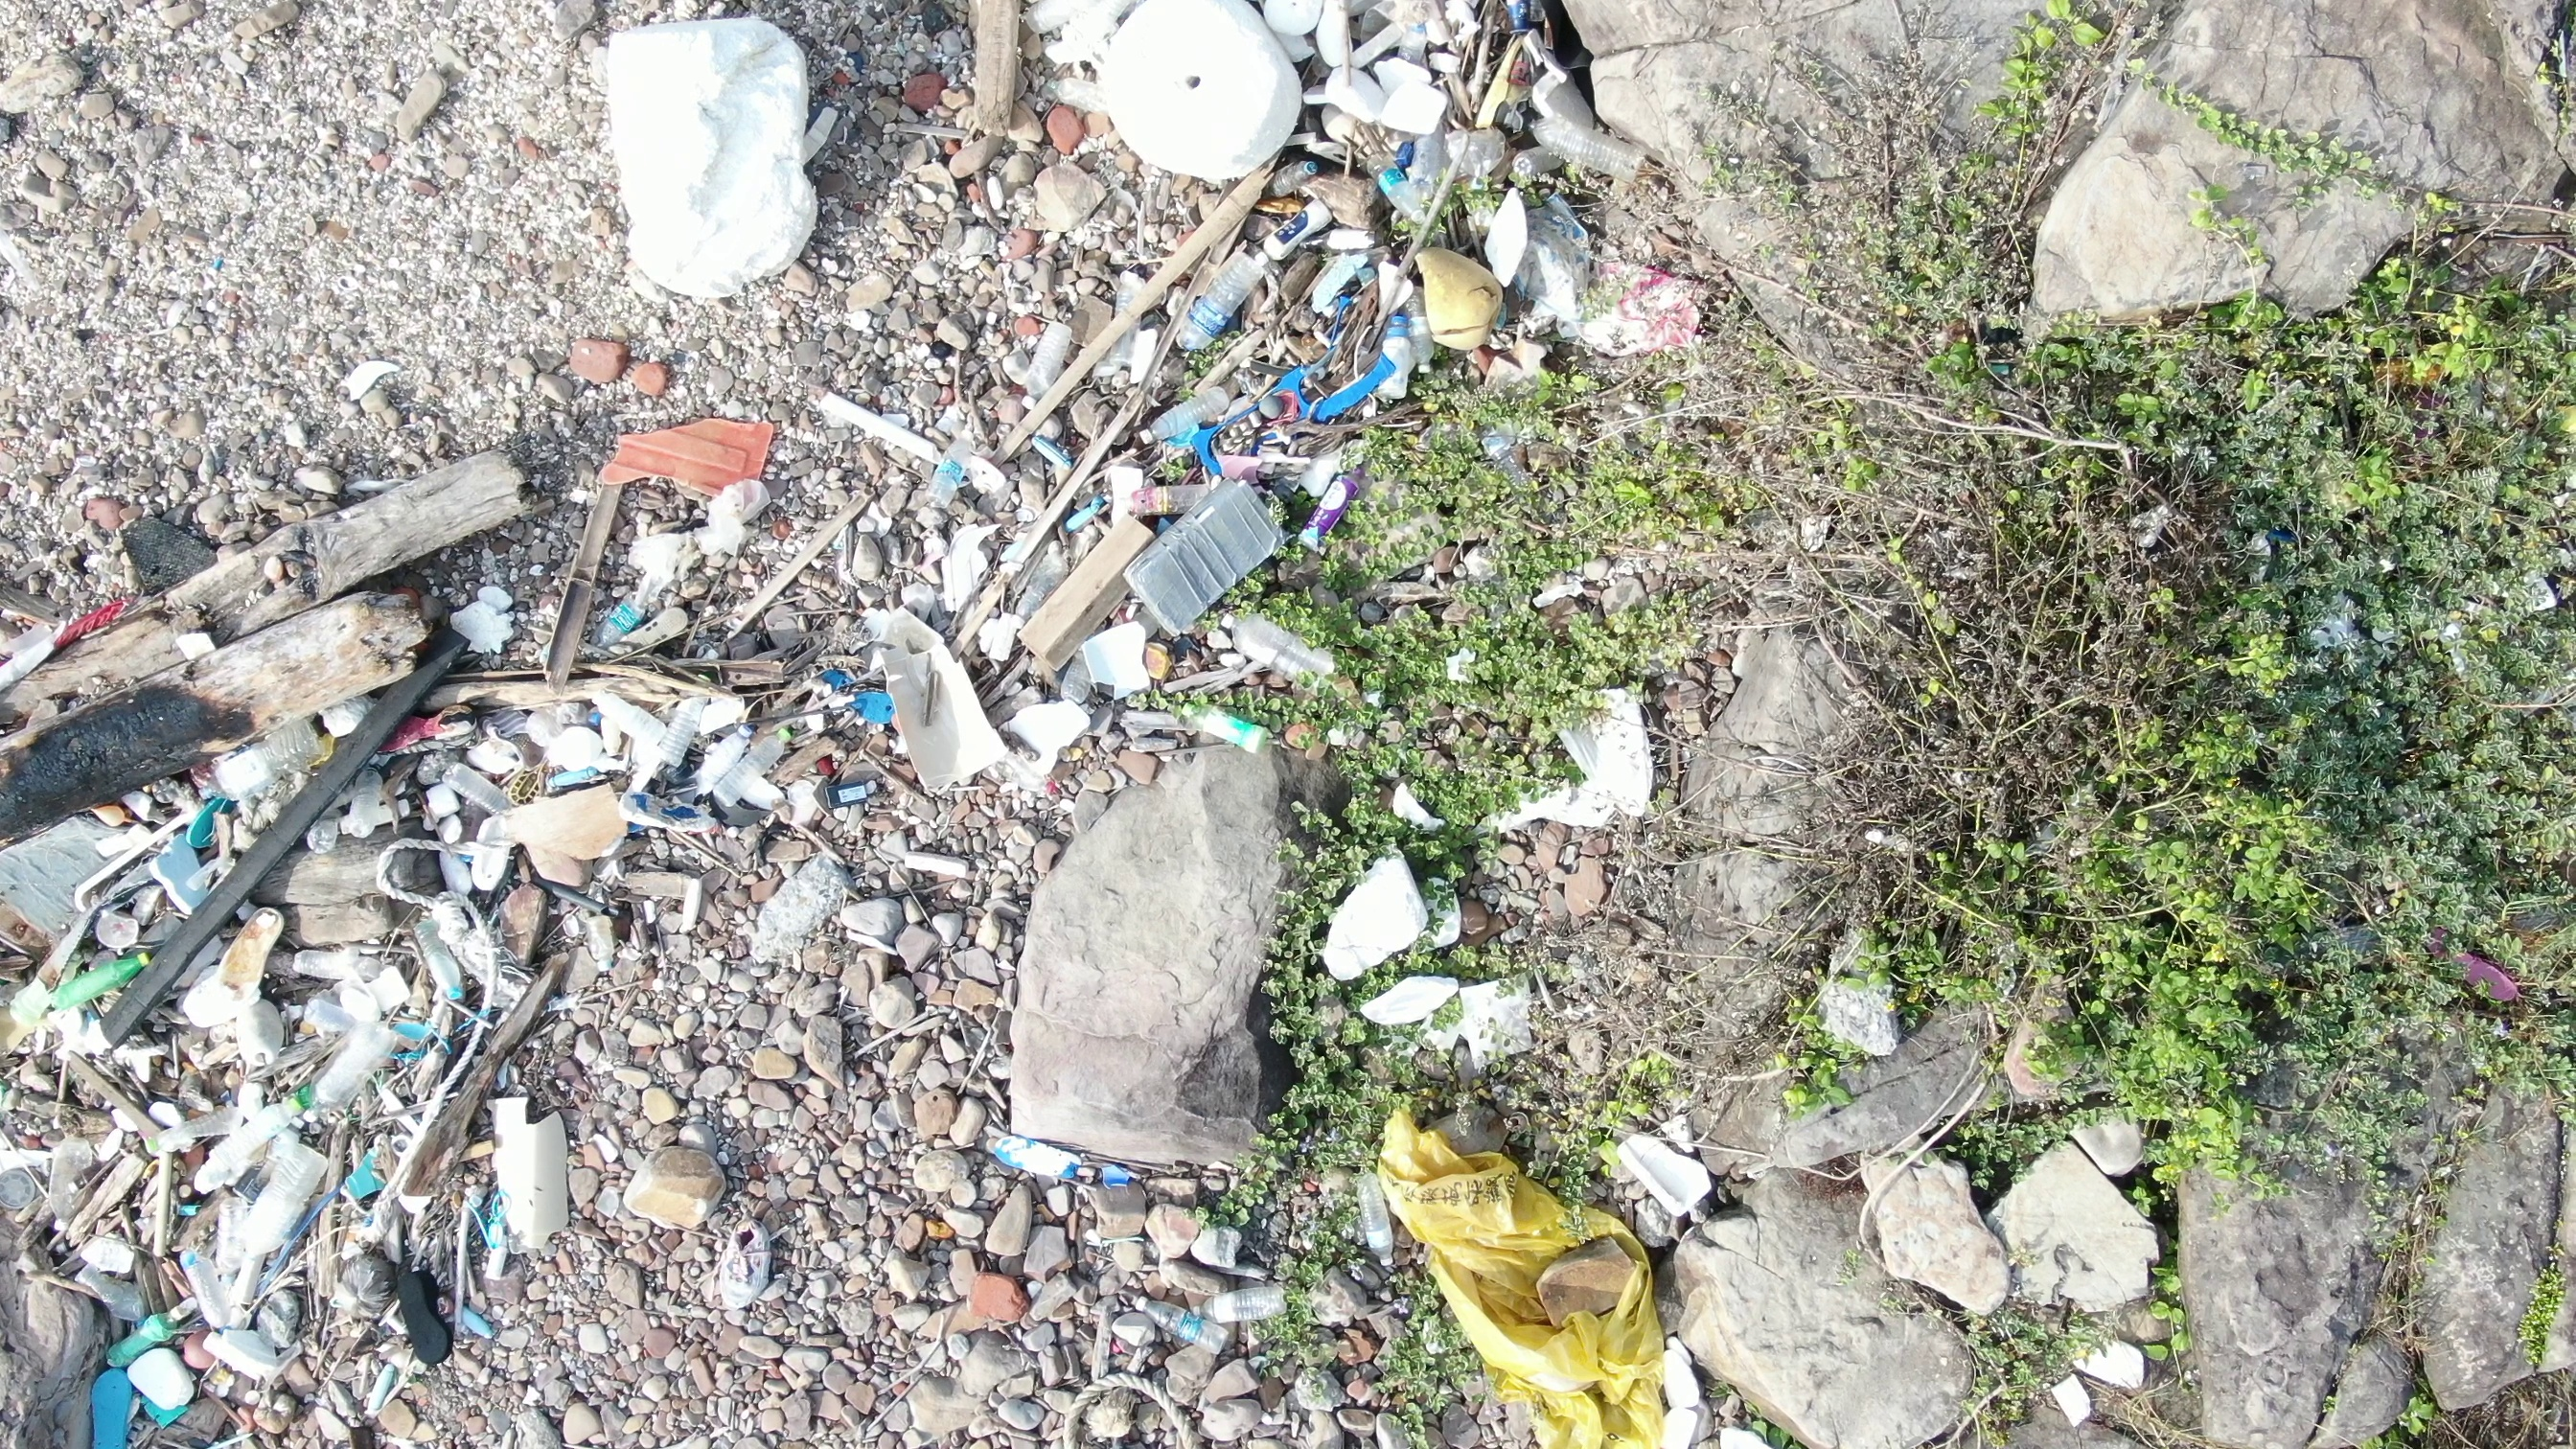bottle: (1175, 244, 1270, 357), (1520, 111, 1652, 180), (982, 1129, 1104, 1201), (42, 945, 156, 1014), (582, 568, 660, 665), (1127, 1290, 1235, 1350), (1178, 695, 1279, 755), (1361, 152, 1440, 226), (412, 909, 469, 1014), (1307, 460, 1373, 536), (1272, 156, 1323, 193)
garbage: (2, 582, 901, 1447), (931, 16, 1656, 633), (1364, 1093, 1686, 1445), (580, 393, 801, 511)
